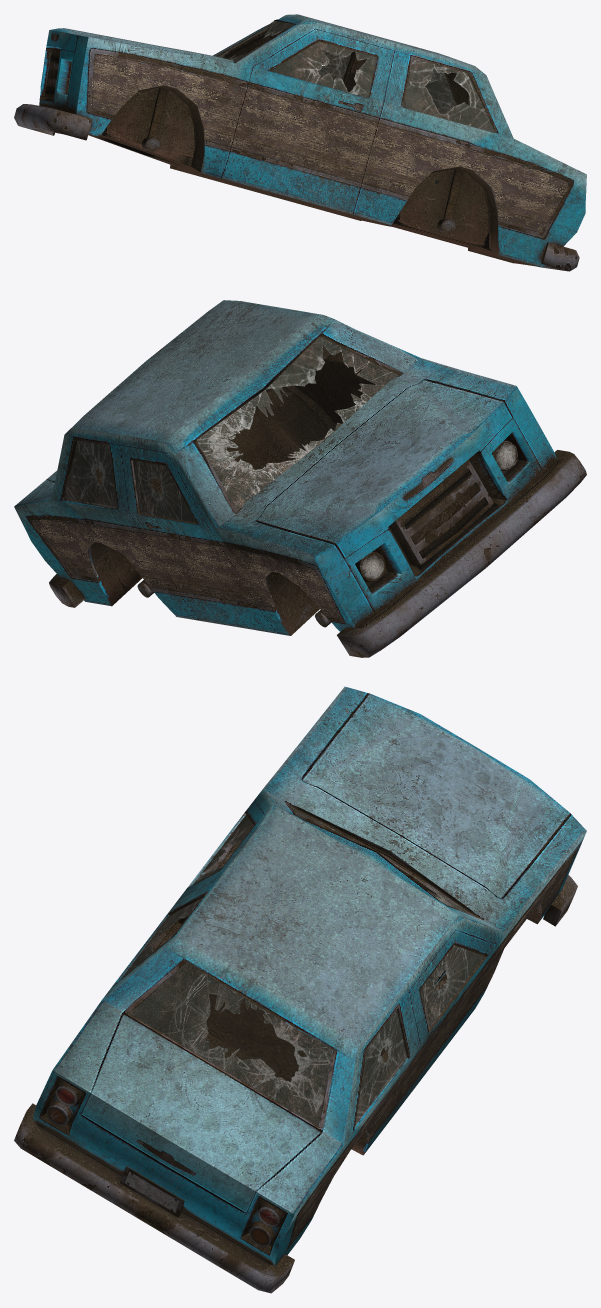
The model's file is CarFinalBlue.fbx.
3 views of the same model, one above another, from view 1: azimuth 30°, elevation 25°; view 2: azimuth 150°, elevation 25°; view 3: azimuth 270°, elevation 25° (orthographic). The views are drawn at different scales.
Visible parts, largest first — view 1: Box002, Plane002; view 2: Box002, Plane002; view 3: Box002, Plane002.
Boxes of the visible parts, box(x1,y1,x2,y2) form: Box002: box(14, 14, 586, 271); Plane002: box(217, 20, 495, 133); Box002: box(14, 300, 586, 657); Plane002: box(64, 336, 399, 522); Box002: box(14, 686, 586, 1293); Plane002: box(122, 806, 484, 1126).
Bounding box in the file's own units: 490 × 292 × 414.
